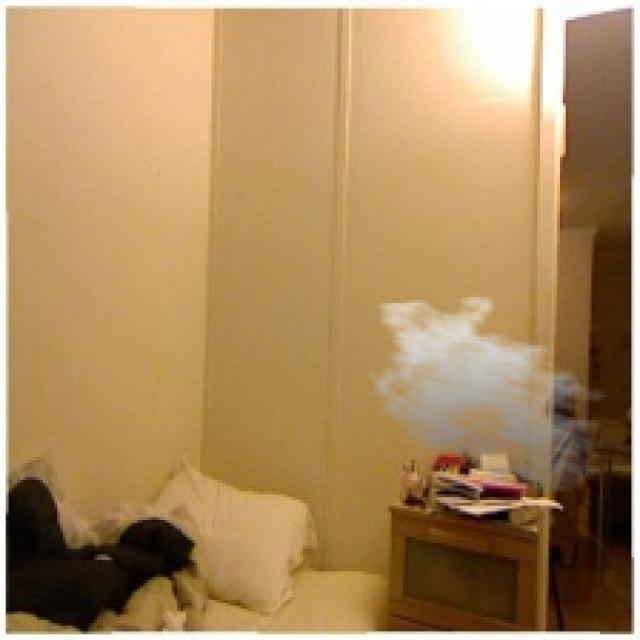Smoke: (363, 294, 623, 494)
